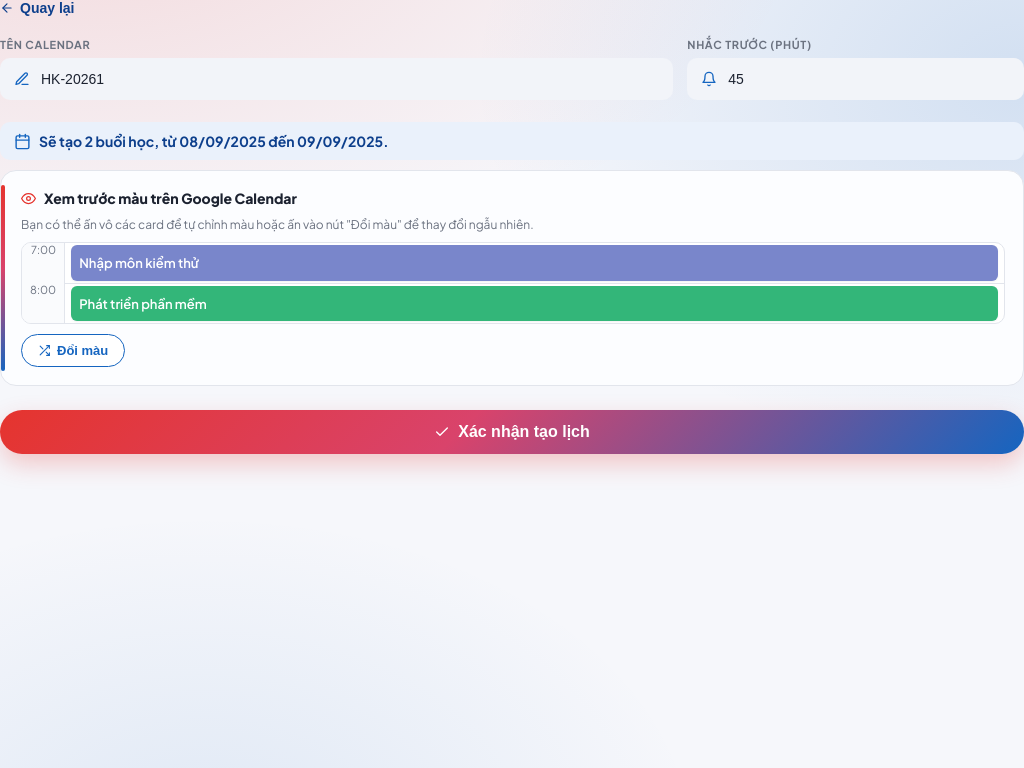
CalendarConfigStep › đăng nhập Google rồi tạo lịch thành công, hiển thị tiến độ
What coordinates should you click on to do the following:
click the button "Xác nhận tạo lịch"
I would click on:
 (512, 432)
Its box is x1=0 y1=410 x2=1023 y2=454.
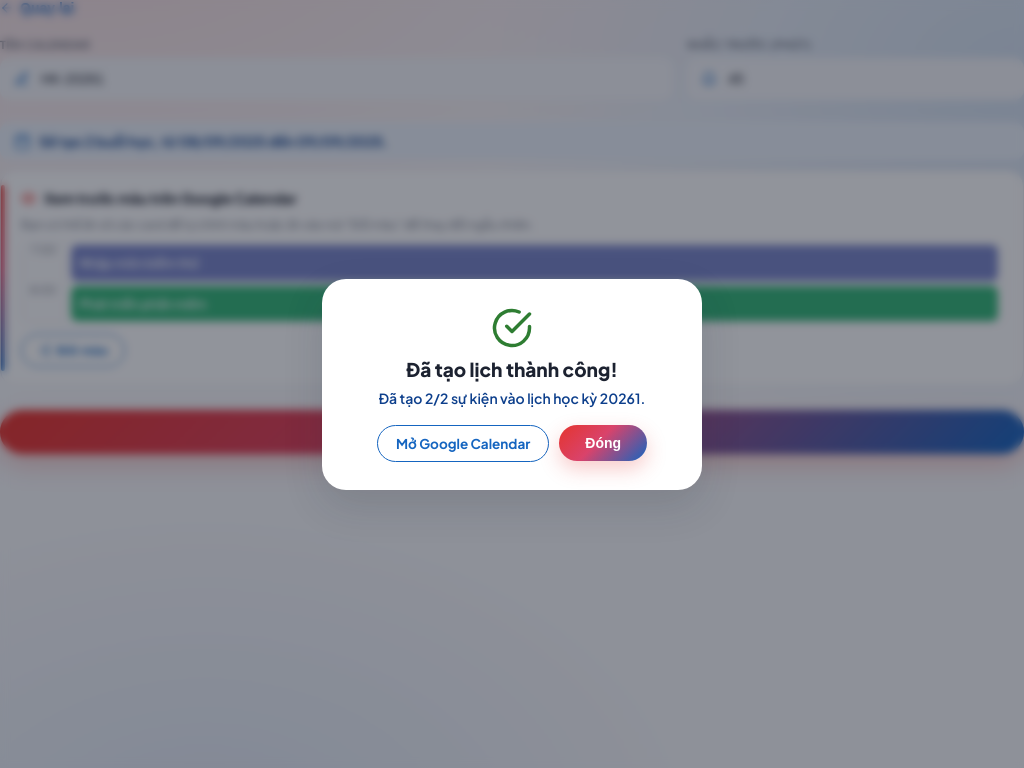
expect the text "Đã tạo 2/2 sự kiện vào lịch học kỳ 20261." is shown: met, box x1=379 y1=388 x2=645 y2=406
